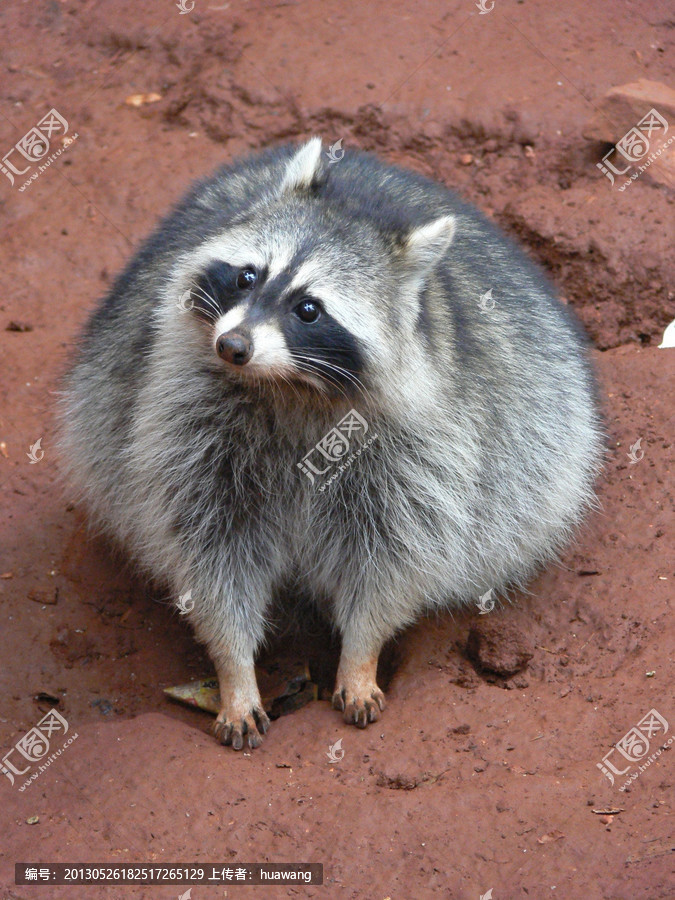raccoon: (45, 128, 617, 761)
